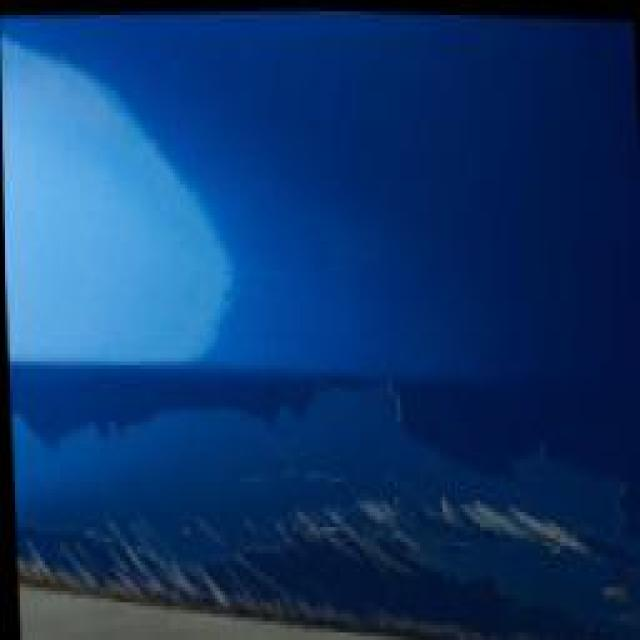Door: (2, 222, 639, 640)
